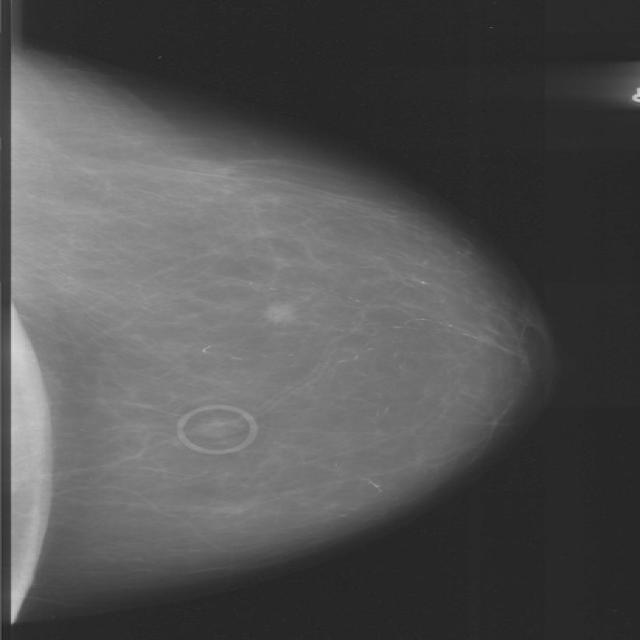tumour: (262, 299, 294, 324)
